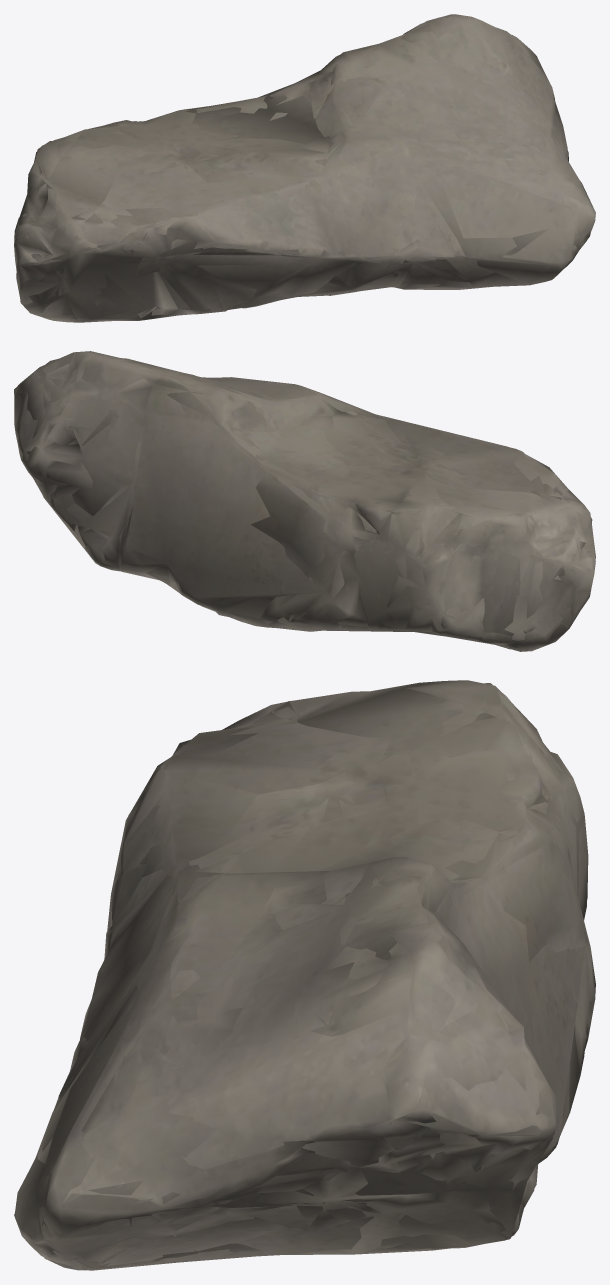
The model's file is moon_rock_01.glb.
3 views of the same model, one above another, from view 1: azimuth 30°, elevation 25°; view 2: azimuth 150°, elevation 25°; view 3: azimuth 270°, elevation 25° (orthographic). The views are drawn at different scales.
Parts seen in each view (by area): view 1: moon_rock_01_LOD0; view 2: moon_rock_01_LOD0; view 3: moon_rock_01_LOD0.
Boxes of the visible parts, left/top/right/bottom form: moon_rock_01_LOD0: left=14, top=14, right=595, bottom=322; moon_rock_01_LOD0: left=14, top=351, right=595, bottom=651; moon_rock_01_LOD0: left=14, top=680, right=595, bottom=1270.
Size of the model in its own units: 0.2123 by 0.0751 by 0.1114.
Materials: 1 (1 with a texture image).
